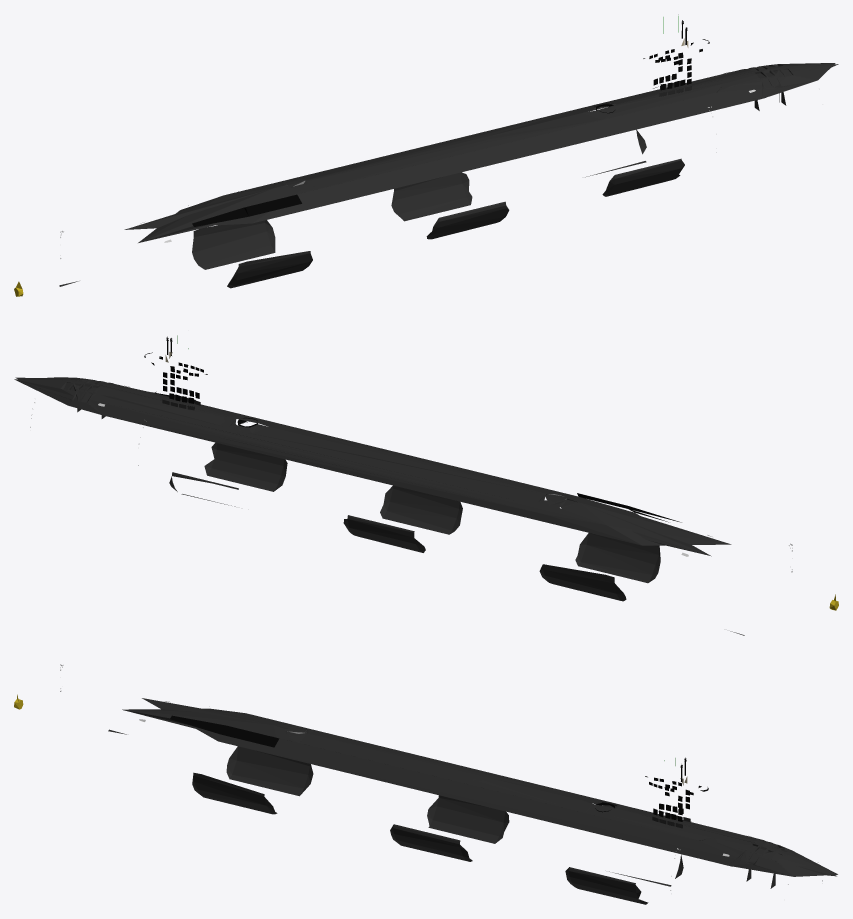
3 views of the same model, one above another, from view 1: azimuth 30°, elevation 25°; view 2: azimuth 150°, elevation 25°; view 3: azimuth 330°, elevation 25° (orthographic).
Parts seen in each view (by area): view 1: Object_8, Object_5, Object_4, Object_19; view 2: Object_8, Object_5, Object_19; view 3: Object_8, Object_5, Object_4, Object_19.
Part boxes in pixels (<box>): Object_8: <box>59,63,838,286</box>; Object_5: <box>188,70,756,288</box>; Object_4: <box>192,194,301,226</box>; Object_19: <box>596,20,709,113</box>; Object_8: <box>14,377,744,635</box>; Object_5: <box>97,383,660,601</box>; Object_19: <box>144,336,257,427</box>; Object_8: <box>108,698,837,888</box>; Object_5: <box>192,746,755,904</box>; Object_4: <box>170,715,279,747</box>; Object_19: <box>595,757,708,821</box>.
Size of the model in its own units: 357 by 63.84 by 36.01.
Materials: 10 (1 with a texture image).
